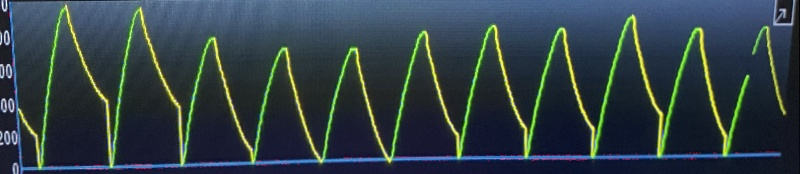leakage: (388, 7, 732, 164), (18, 0, 246, 168)
normal_volume: (253, 12, 384, 167)
